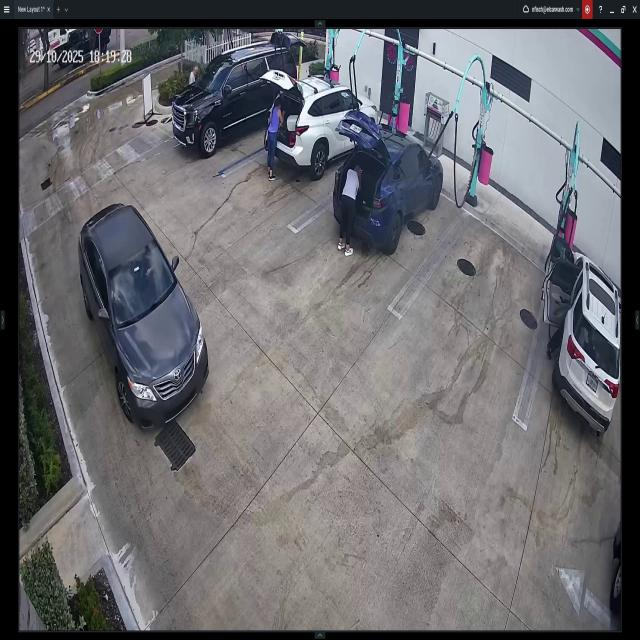Car: (79, 202, 209, 428), (333, 112, 444, 254), (548, 234, 620, 431), (172, 45, 297, 150), (264, 68, 378, 174)
